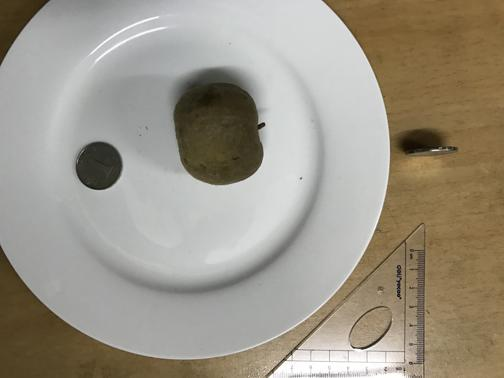coin: (73, 143, 123, 191)
qiwi: (172, 84, 261, 186)
